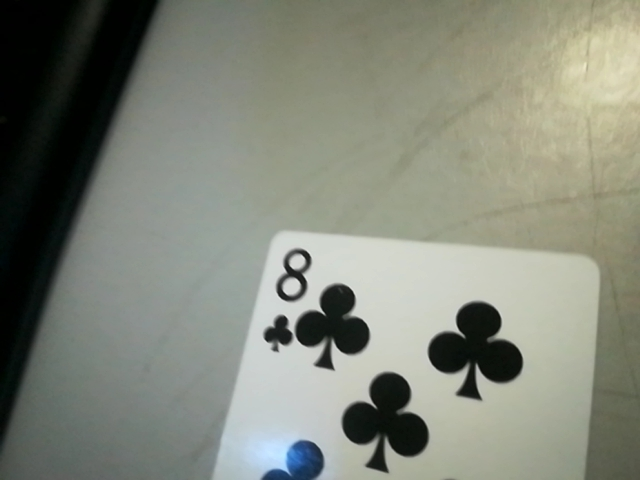mh 8: (253, 239, 313, 354)
